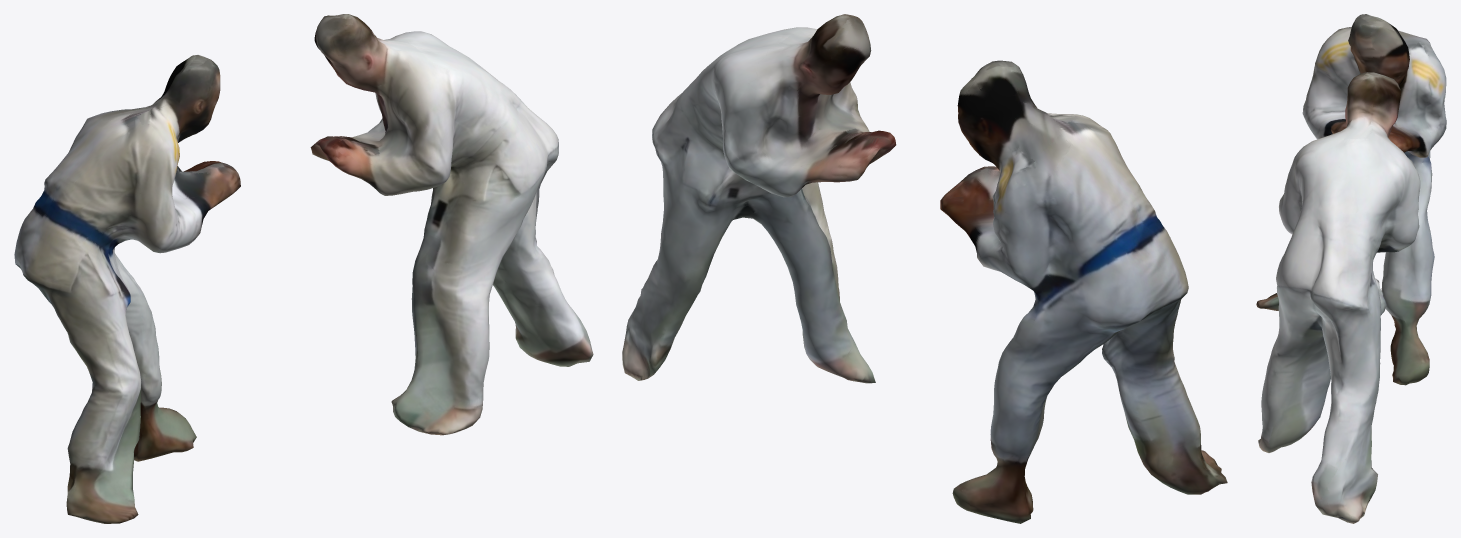
File: double-leg-1.glb
3 renders of one model, left to right at view 1: azimuth 30°, elevation 25°; view 2: azimuth 150°, elevation 25°; view 3: azimuth 270°, elevation 25°, orthographic. The views are drawn at different scales.
Size of the model in its own units: 1.78 by 1.3 by 0.5988.
Materials: 1 (1 with a texture image).
